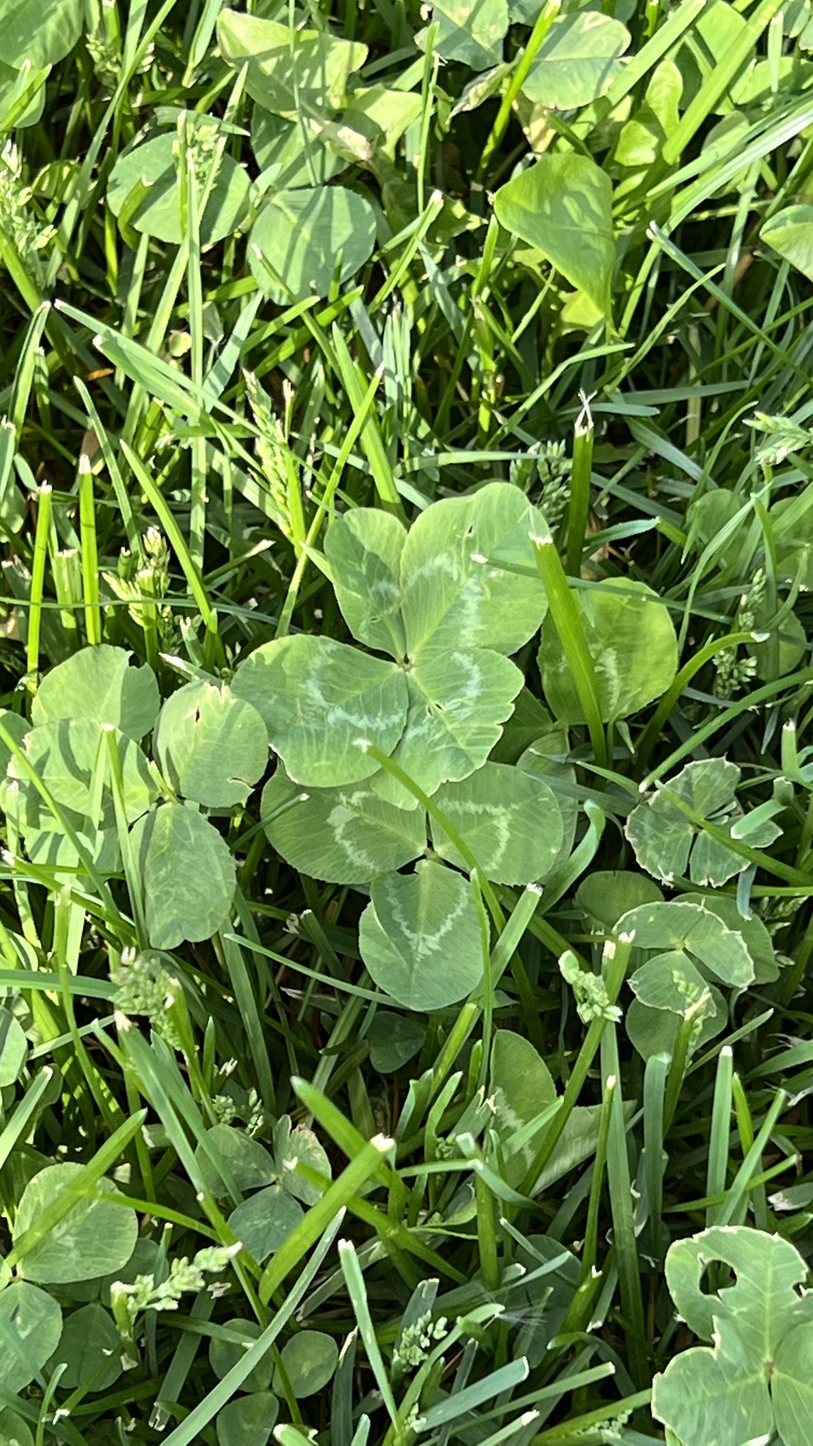4-Leaf-Clovers: (237, 488, 551, 788)
